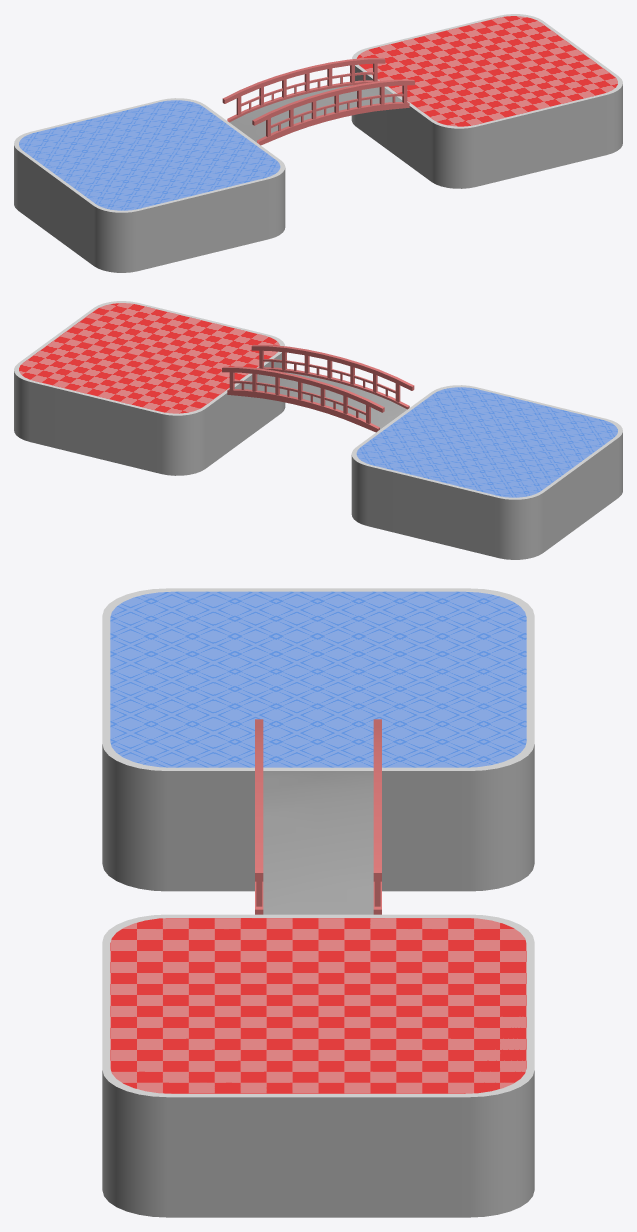
The picture shows the model from 3 angles, top to bottom: view 1: azimuth 30°, elevation 25°; view 2: azimuth 150°, elevation 25°; view 3: azimuth 270°, elevation 25°; orthographic projection. The views are drawn at different scales.
Visible parts, largest first — view 1: Ground, Ground1, Bridge; view 2: Ground, Ground1, Bridge; view 3: Ground1, Ground, Bridge.
Part boxes in pixels (x1=…): Ground: x1=14, y1=98, x2=285, y2=272; Ground1: x1=351, y1=14, x2=622, y2=188; Bridge: x1=222, y1=57, x2=414, y2=145; Ground: x1=351, y1=385, x2=622, y2=559; Ground1: x1=14, y1=301, x2=285, y2=475; Bridge: x1=222, y1=344, x2=414, y2=432; Ground1: x1=102, y1=914, x2=534, y2=1217; Ground: x1=102, y1=588, x2=534, y2=891; Bridge: x1=255, y1=719, x2=381, y2=914.
Size of the model in its own units: 107 by 18.33 by 38.01.
